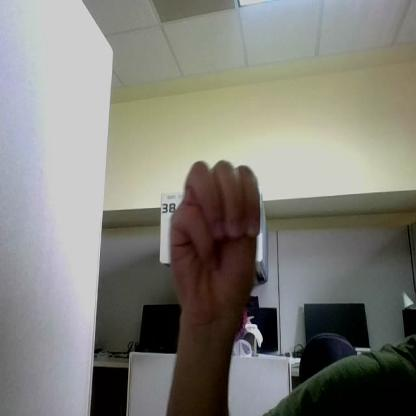M: (170, 160, 260, 316)
